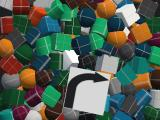Right: (63, 66, 111, 115)
